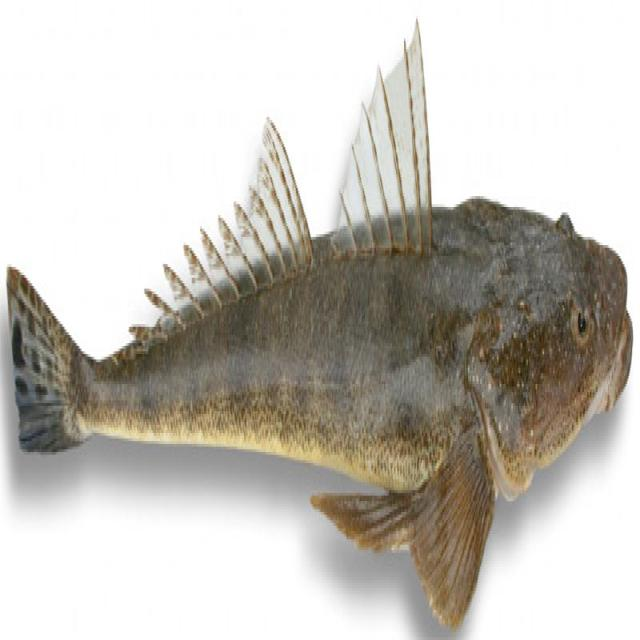Flathead: (10, 13, 640, 640)
